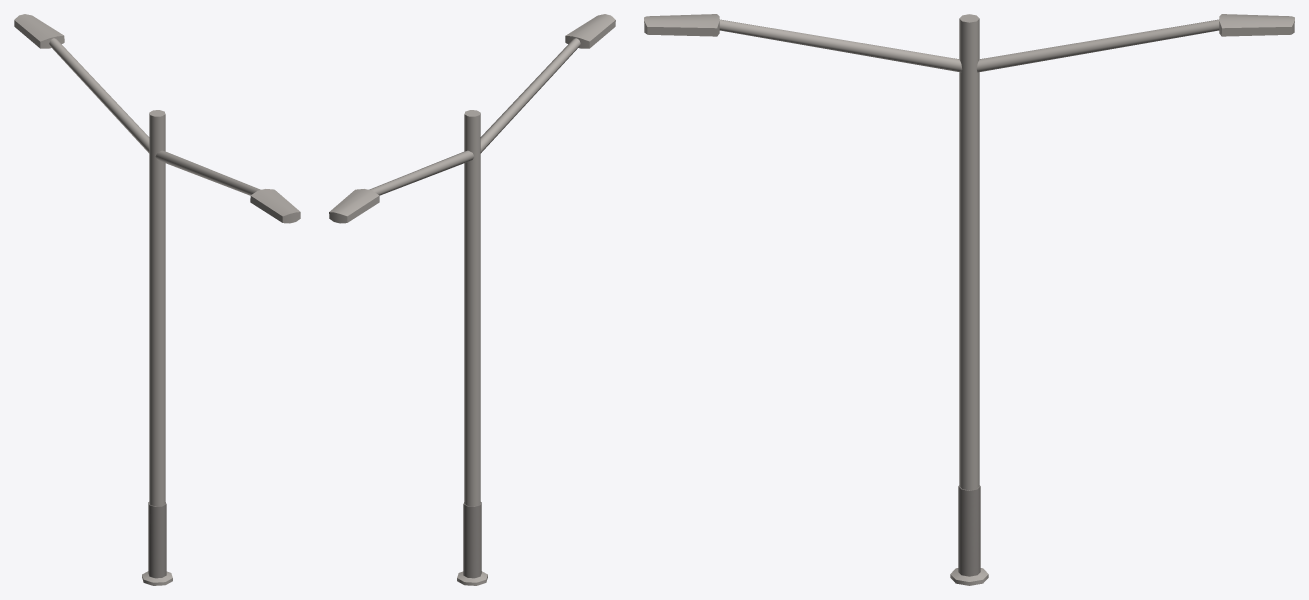
The model's file is streetLight2.fbx.
3 views of the same model, side by side, from view 1: azimuth 30°, elevation 25°; view 2: azimuth 150°, elevation 25°; view 3: azimuth 270°, elevation 25° (orthographic). The views are drawn at different scales.
Visible parts, largest first — view 1: sptp_street_light_01; view 2: sptp_street_light_01; view 3: sptp_street_light_01.
Part boxes in pixels (bbox=[...]): sptp_street_light_01: bbox=[14, 14, 300, 585]; sptp_street_light_01: bbox=[329, 14, 615, 585]; sptp_street_light_01: bbox=[644, 14, 1294, 585].
Size of the model in its own units: 38.99 by 628 by 662.
1 material, 1 textured.
